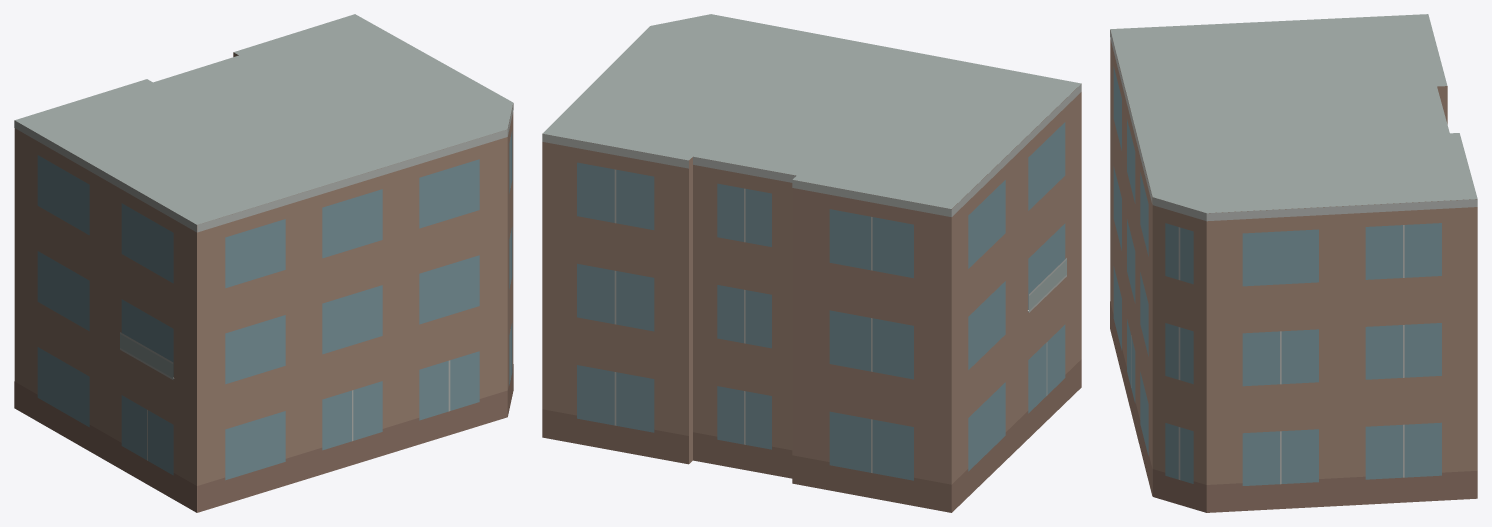
File: survey-upis-32702340.glb
3 views of the same model, side by side, from view 1: azimuth 30°, elevation 25°; view 2: azimuth 150°, elevation 25°; view 3: azimuth 270°, elevation 25° (orthographic). The views are drawn at different scales.
Visible parts, largest first — view 1: survey-upis-32702340.tmp; view 2: survey-upis-32702340.tmp; view 3: survey-upis-32702340.tmp.
Boxes of the visible parts, x1,y1,x2,y2 form: survey-upis-32702340.tmp: (14,14,513,512); survey-upis-32702340.tmp: (542,14,1081,512); survey-upis-32702340.tmp: (1110,14,1477,512).
Size of the model in its own units: 13.06 by 9.15 by 10.18.
